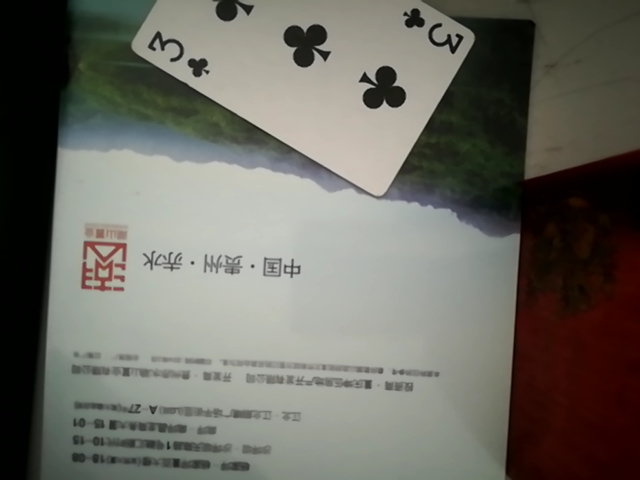mh 3: (111, 0, 478, 192)
